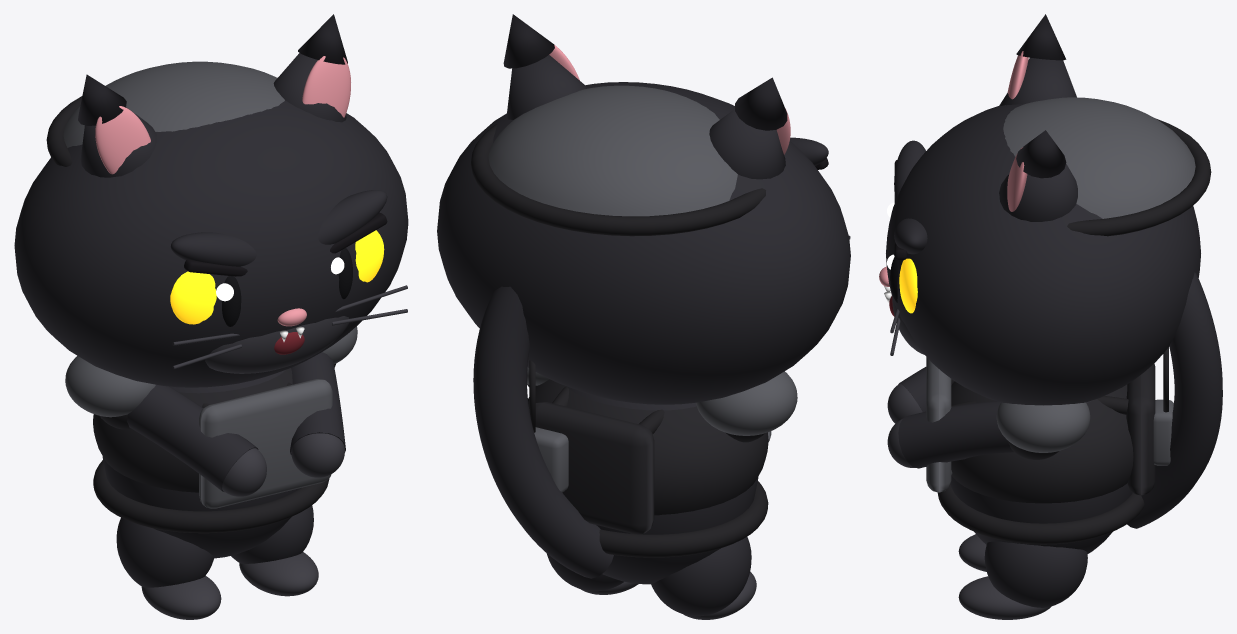
File: cat_bulldog.glb
3 views of the same model, side by side, from view 1: azimuth 30°, elevation 25°; view 2: azimuth 150°, elevation 25°; view 3: azimuth 270°, elevation 25° (orthographic). The views are drawn at different scales.
Parts seen in each view (by area): view 1: head, body, arm_l, leg_l, leg_r, arm_r; view 2: head, body, leg_l, leg_r; view 3: head, body, leg_r, arm_r, arm_l, leg_l.
Part boxes in pixels (x1,y1,x2,y2): head: [14, 14, 408, 387]; body: [65, 326, 357, 558]; arm_l: [99, 384, 266, 496]; leg_l: [116, 517, 221, 619]; leg_r: [231, 505, 318, 596]; arm_r: [290, 352, 345, 477]; head: [437, 14, 850, 404]; body: [473, 286, 797, 584]; leg_l: [651, 537, 756, 619]; leg_r: [546, 553, 638, 594]; head: [879, 14, 1211, 405]; body: [926, 272, 1222, 553]; leg_r: [958, 541, 1087, 619]; arm_r: [887, 401, 1058, 468]; arm_l: [887, 367, 926, 423]; leg_l: [958, 534, 986, 571].
Bounding box in the file's own units: 1.3 × 1.88 × 1.12.
